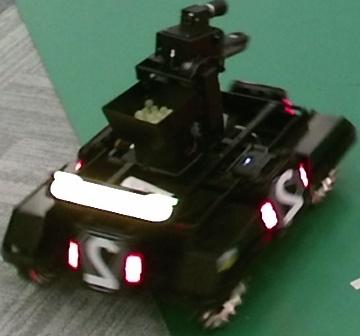armor_2: (69, 240, 142, 283), (260, 165, 309, 229)
back_2: (78, 228, 127, 292)
light: (50, 170, 177, 222)
right_2: (272, 170, 305, 225)
